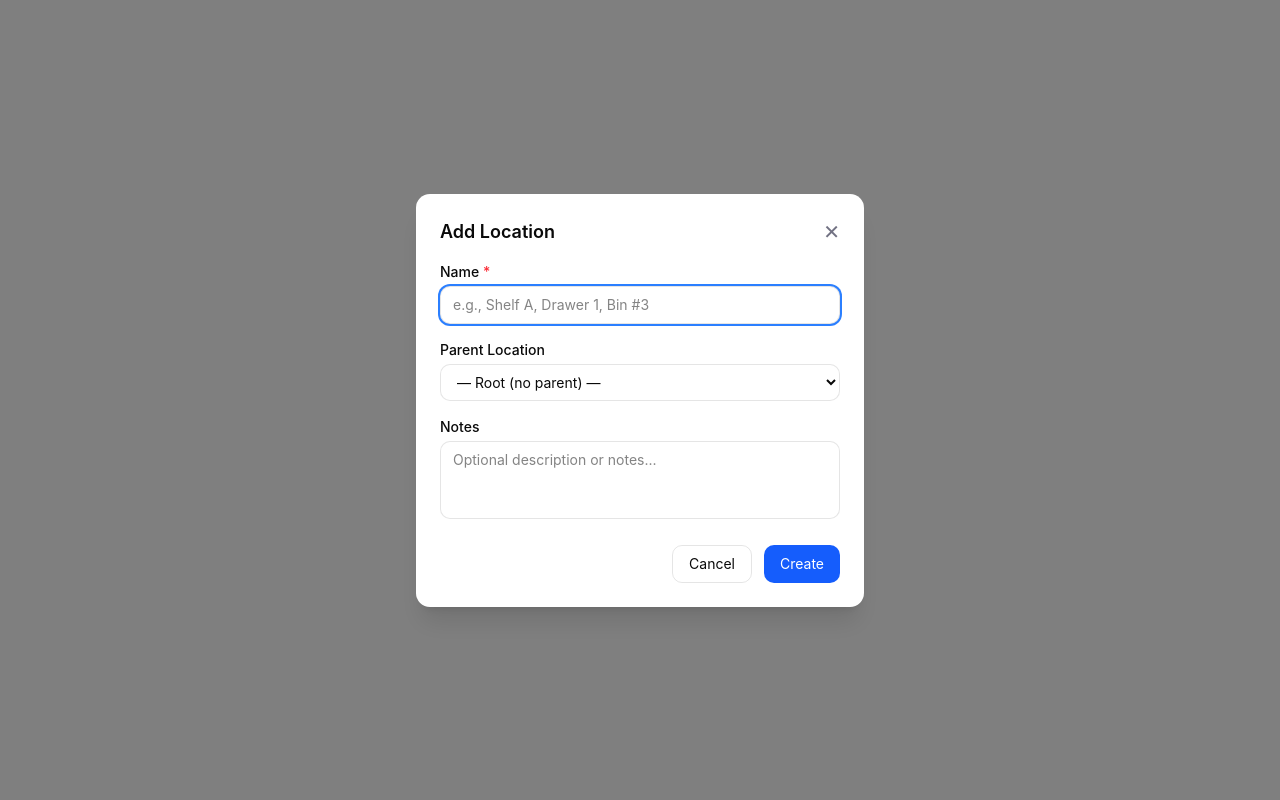
Test: LocationModal — interactions › shows Saving… and disables submit button while loading
Type "New Bin" into the field with placeholder "e.g., Shelf A, Drawer 1, Bin #3". click: (640, 304)
box: [440,286,840,324]
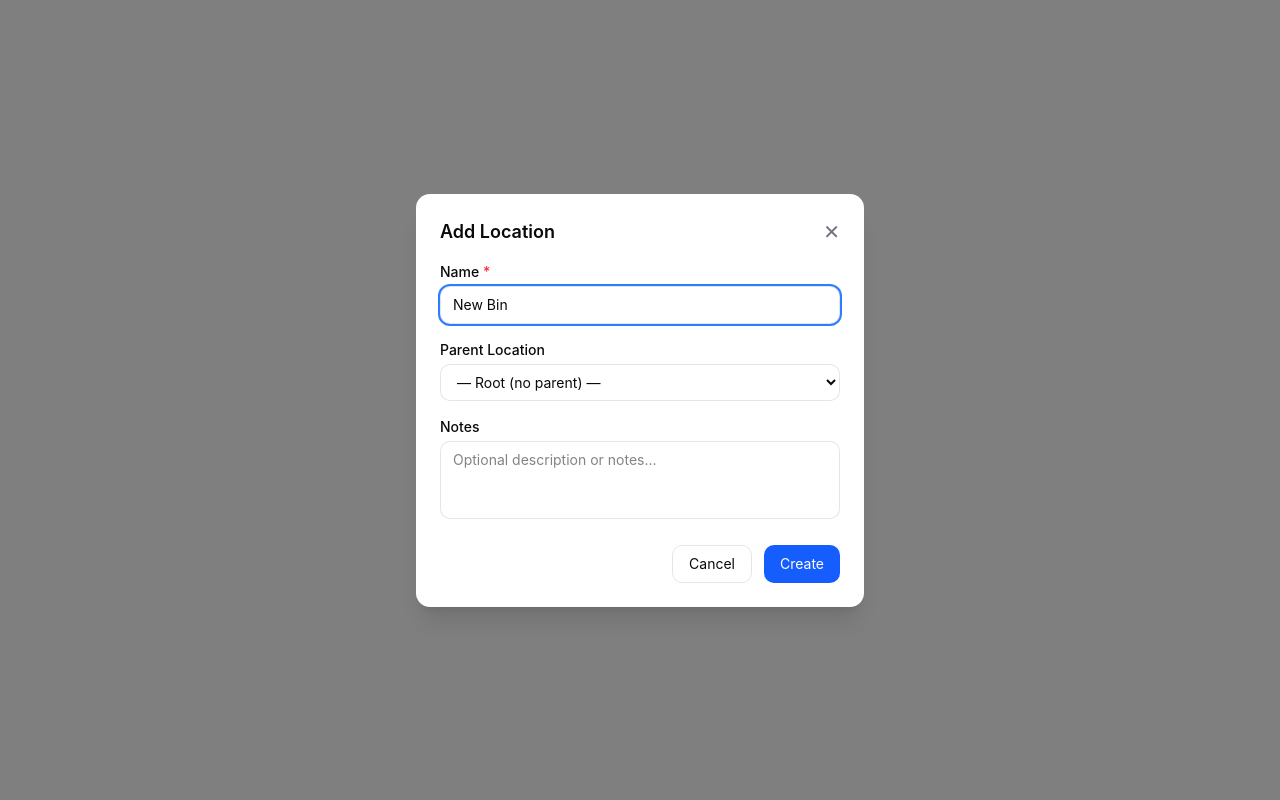
Click the button "Create". click: (802, 564)
box: [764,544,840,582]
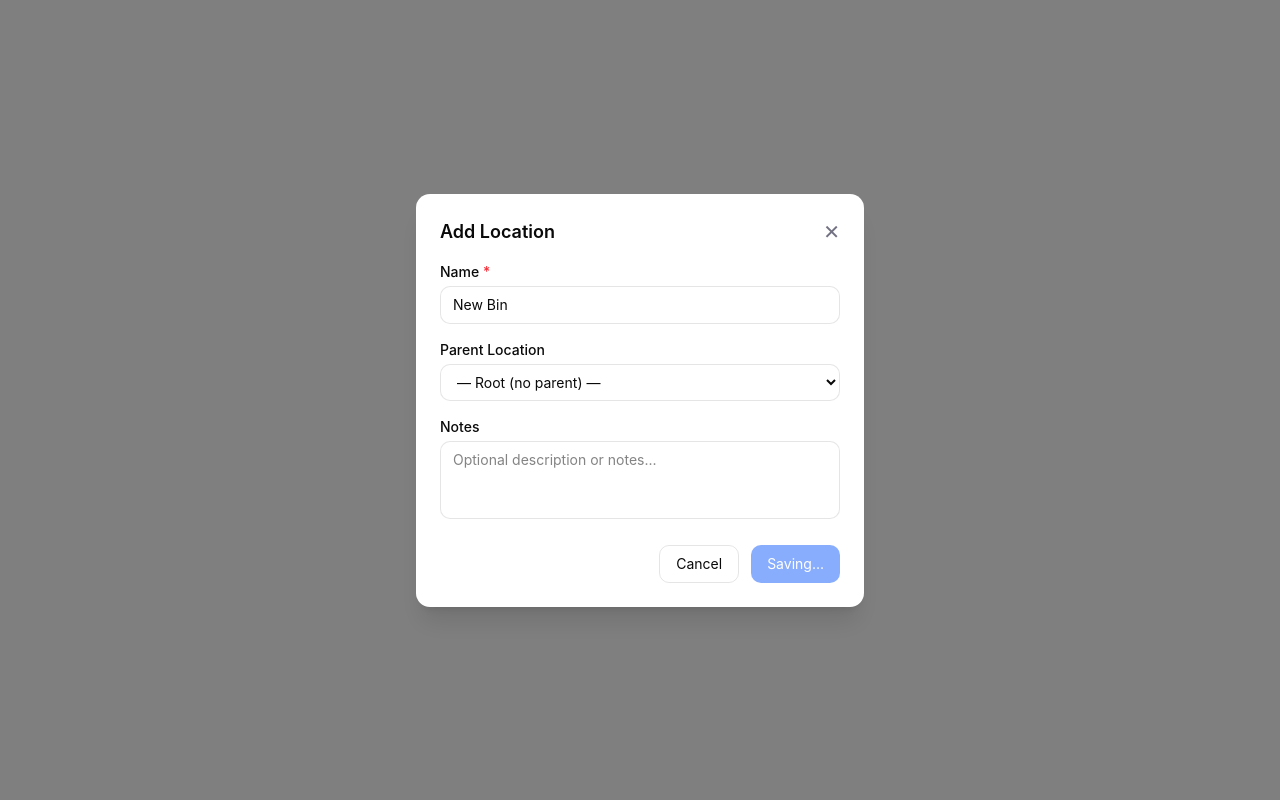
Expected: the button "Saving..." is disabled, [751,544,840,582]
